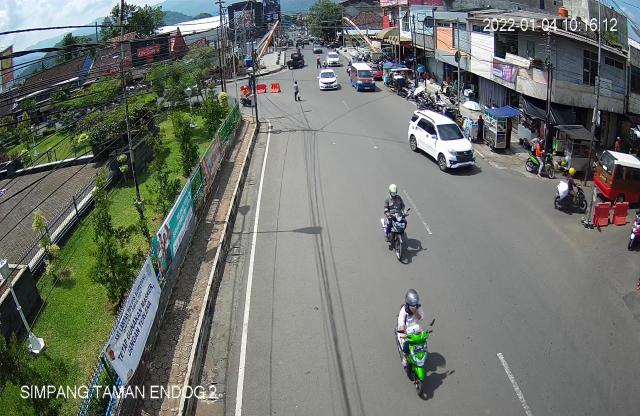Mobil: (408, 107, 479, 177), (594, 146, 640, 209), (349, 62, 379, 94), (318, 68, 339, 93)
Motor: (390, 283, 440, 399), (380, 181, 415, 263), (552, 166, 590, 214), (526, 135, 557, 182)
